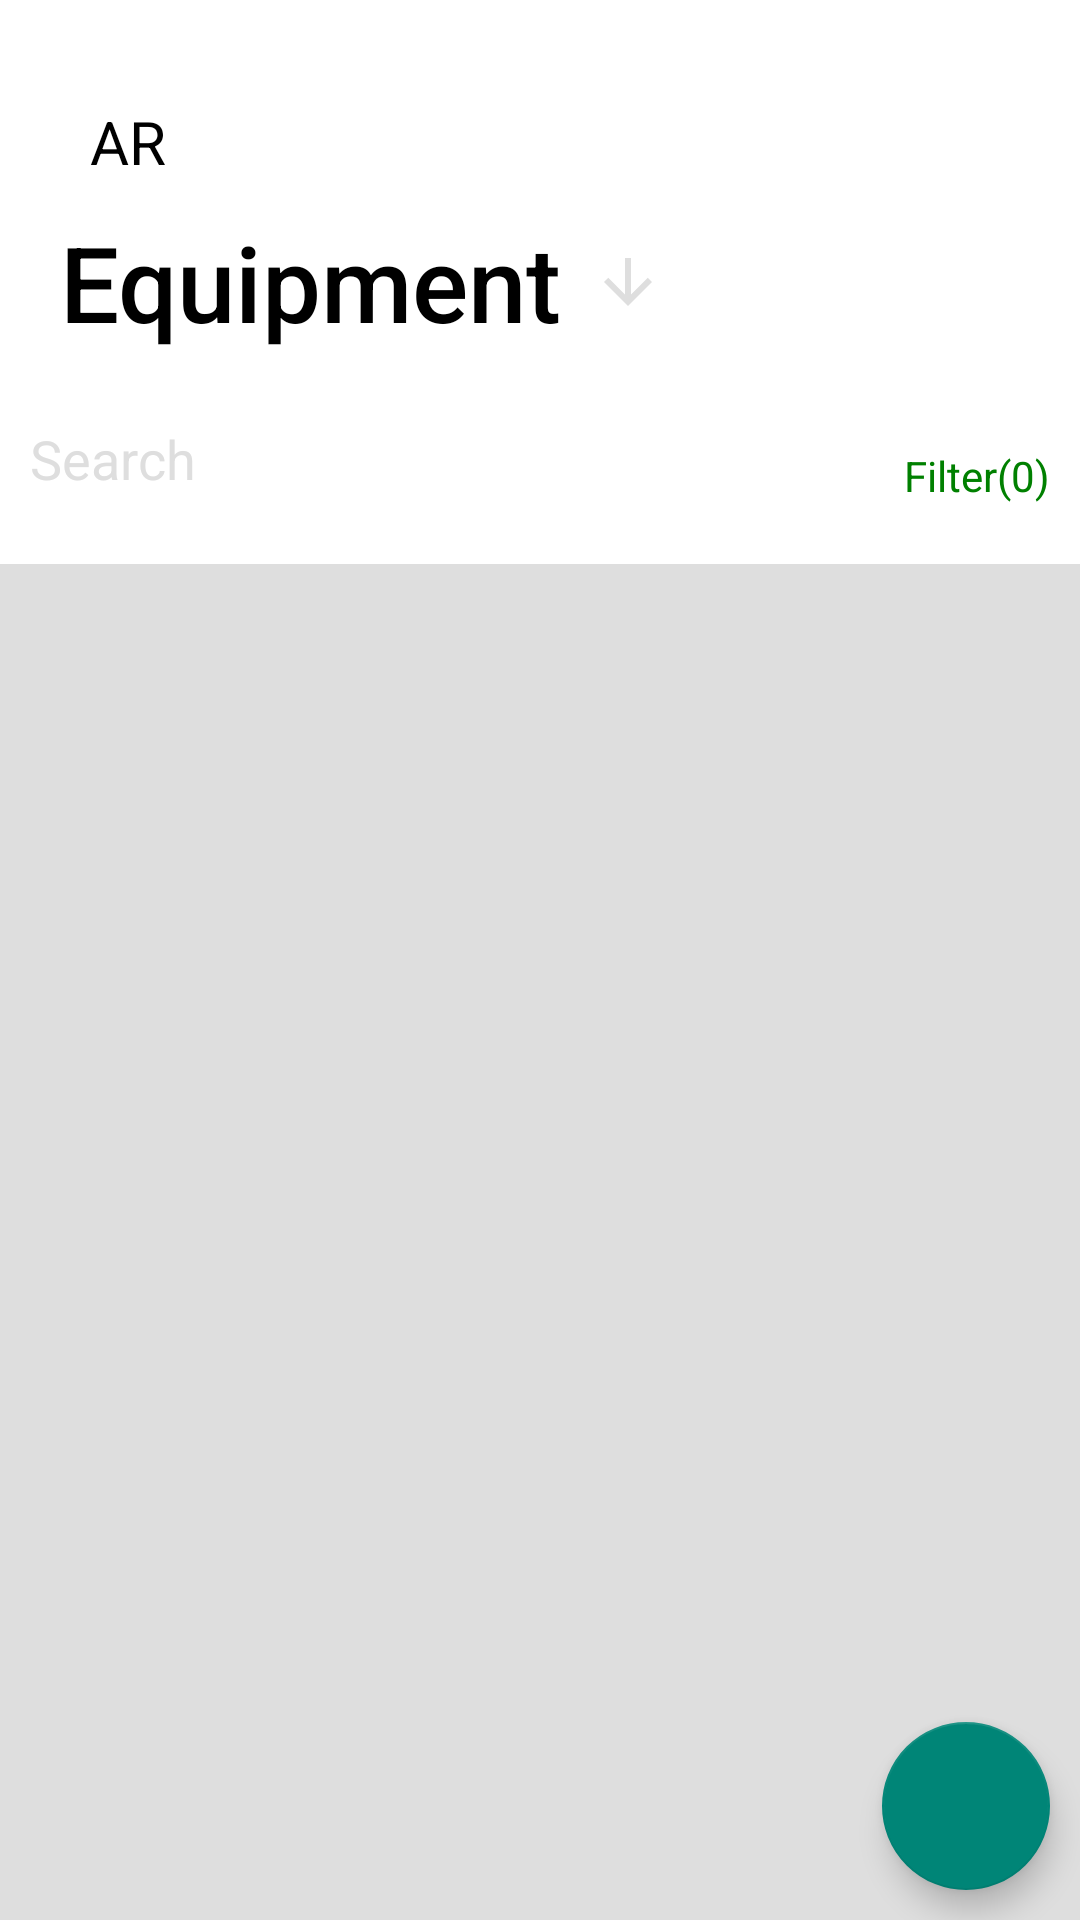

Icons on this 1080×1920 Android screen, each with the point to tap as [x,y]:
arrow down: [628,281]
